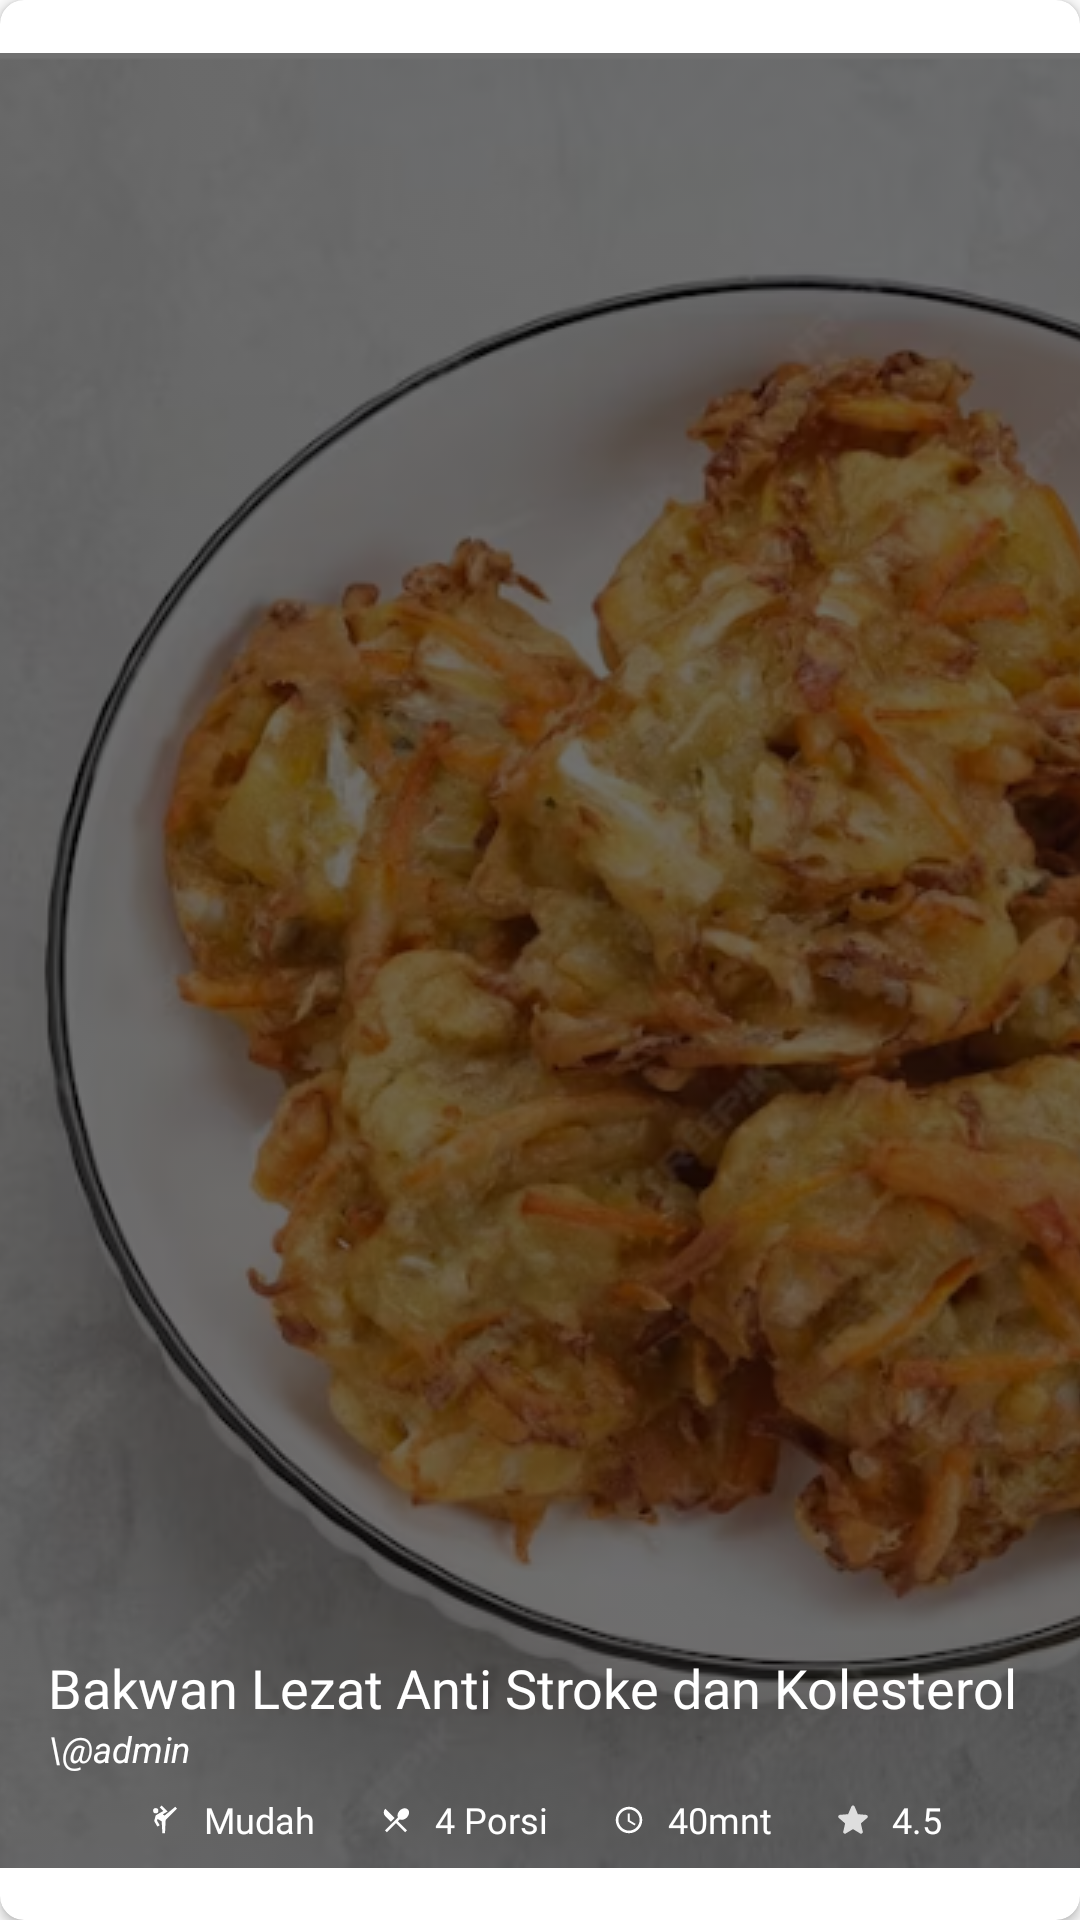

Icons on this 1080 x 1920 Android screen, each with the point to tap as point (x, y):
martial: point (165, 1819)
portion: point (396, 1820)
star: point (853, 1819)
time: point (629, 1820)
